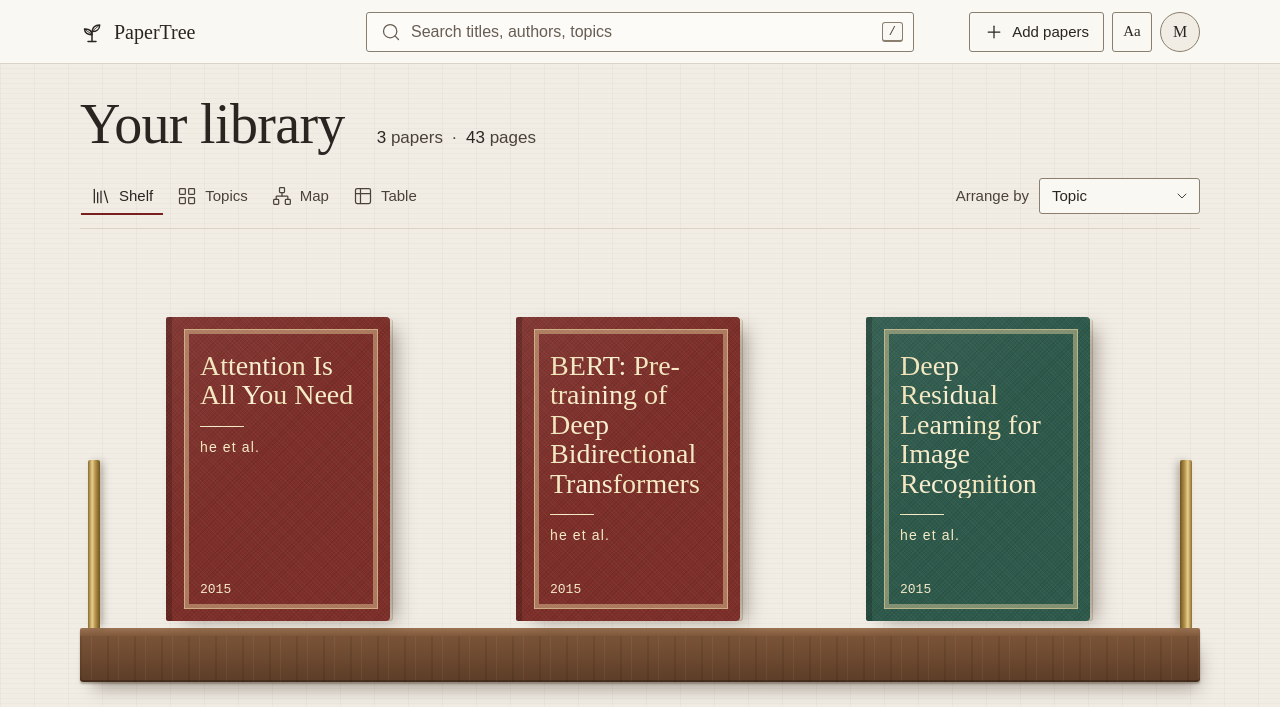
the Topics view (#198) › with no topics says how they arrive, and lists every paper as Unshelved
This screenshot has width=1280, height=707.
Click the button "Topics" at (212, 196), box [166, 176, 259, 216]
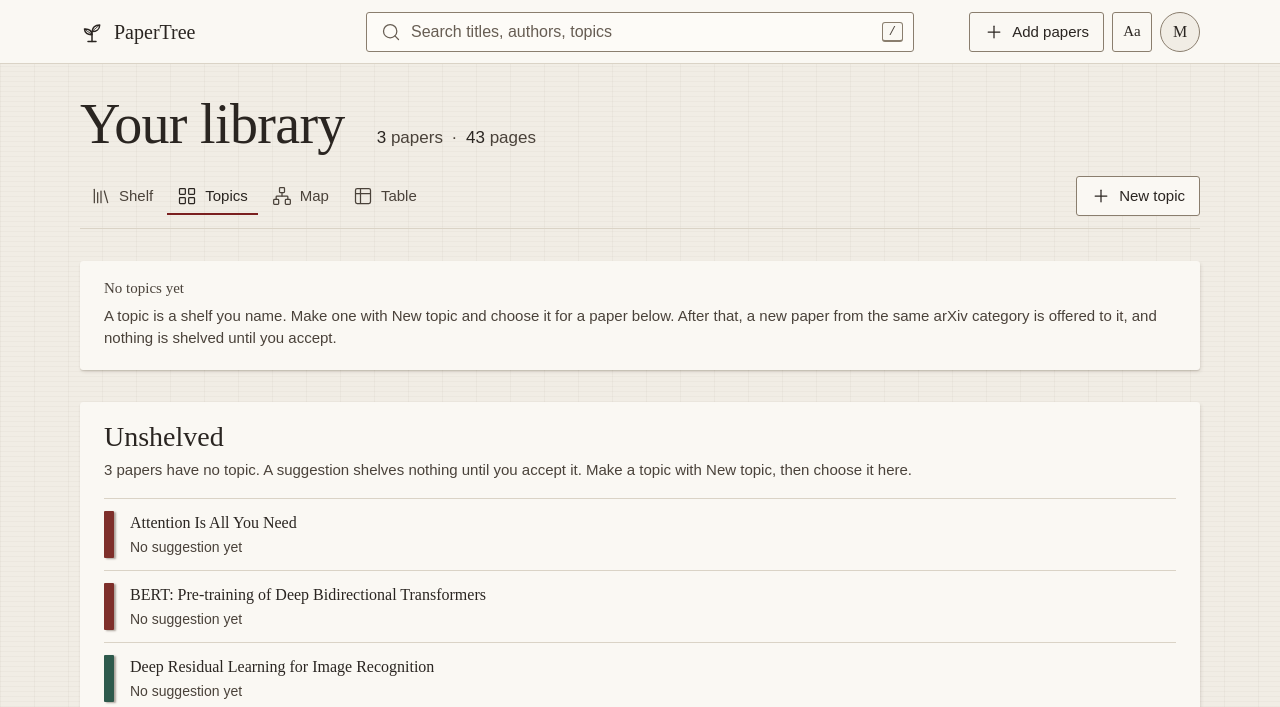
Now the text "No topics yet" is shown, box [104, 280, 184, 296]
